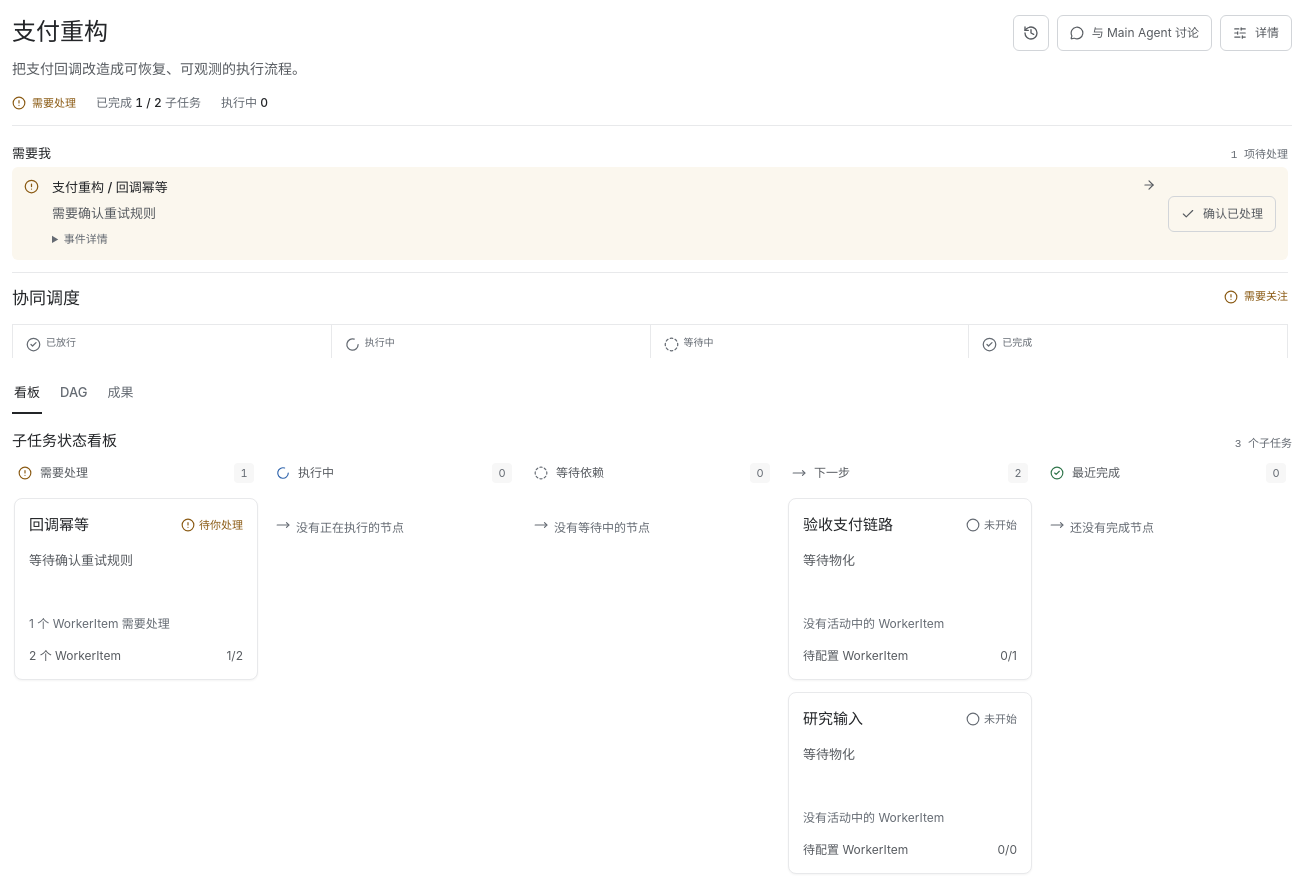
Test: TaskDetailPage › shows exact knowledge refs, delivery retry state, and review counts without loading body
The width and height of the screenshot is (1304, 885).
Click the button with aria-label "查看任务详情".
click(1256, 33)  # box [1220,15,1292,51]
(page scrolled)
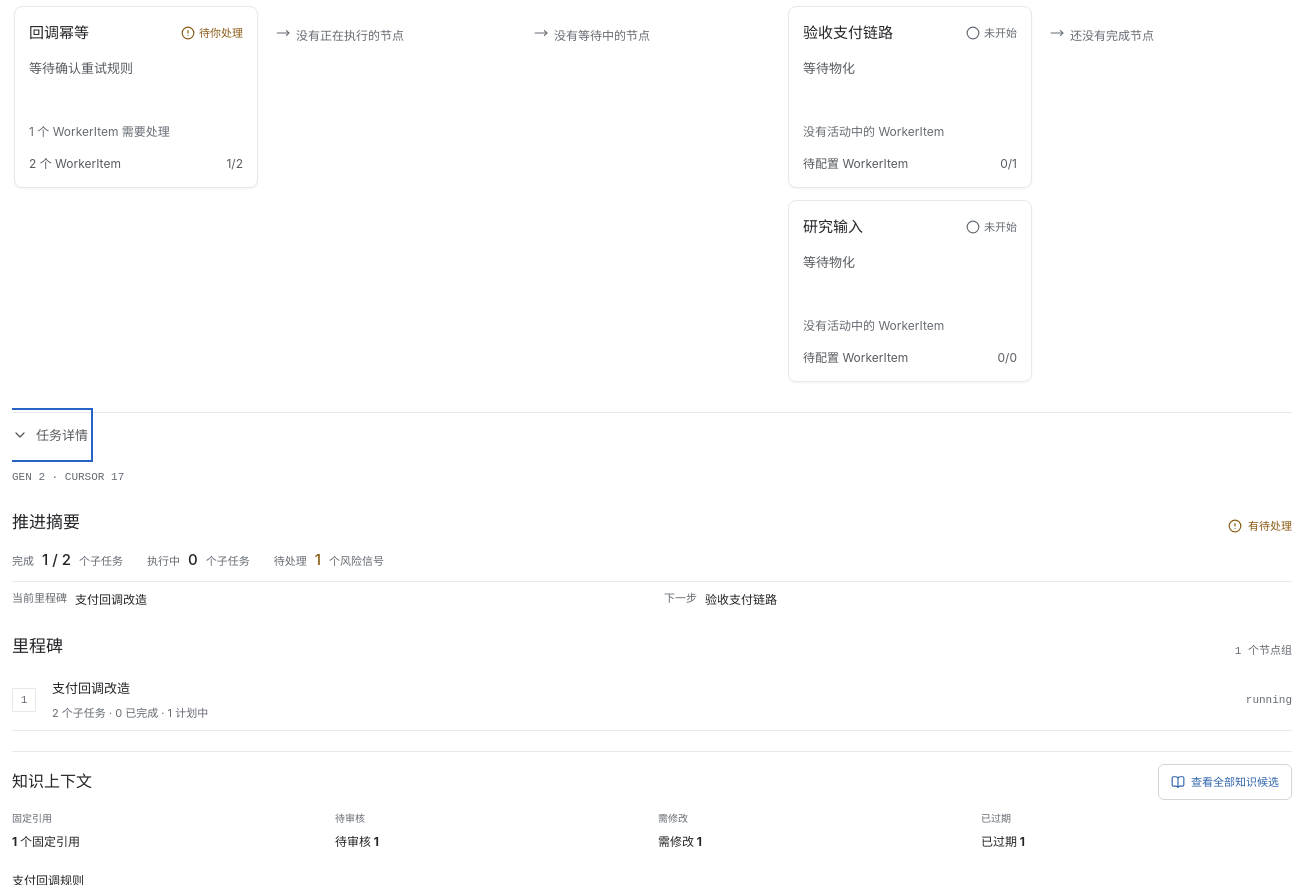
Now the text "1 个固定引用" is shown, box [12,834,80,849]
Now the text "待审核 1" is shown, box [335,834,379,849]
Now the text "需修改 1" is shown, box [658,834,702,849]
